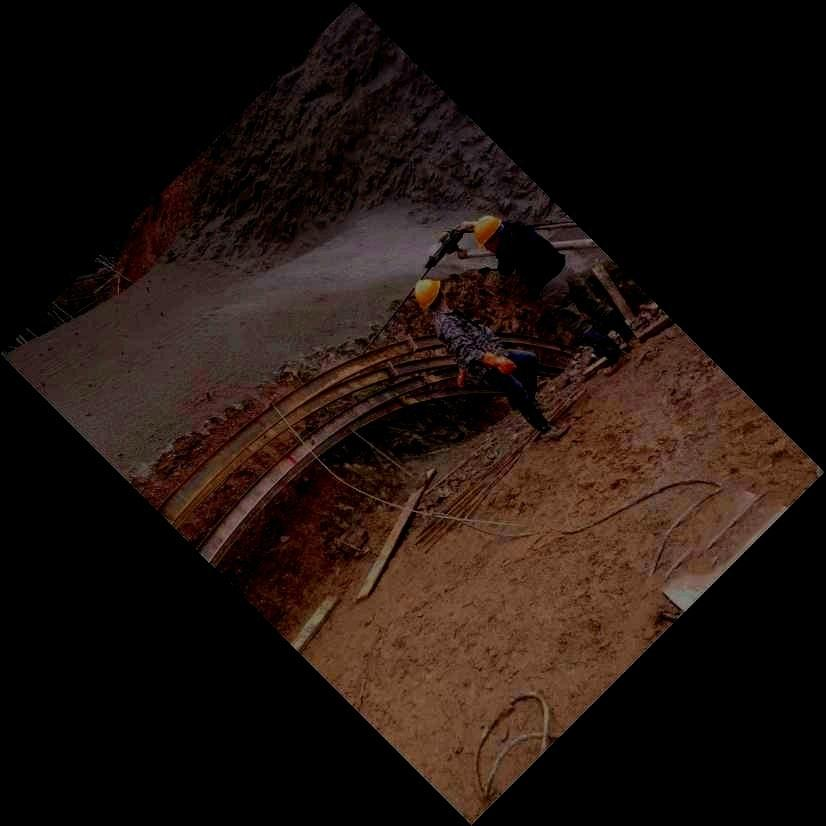helmet: (473, 214, 504, 252), (414, 278, 446, 314)
